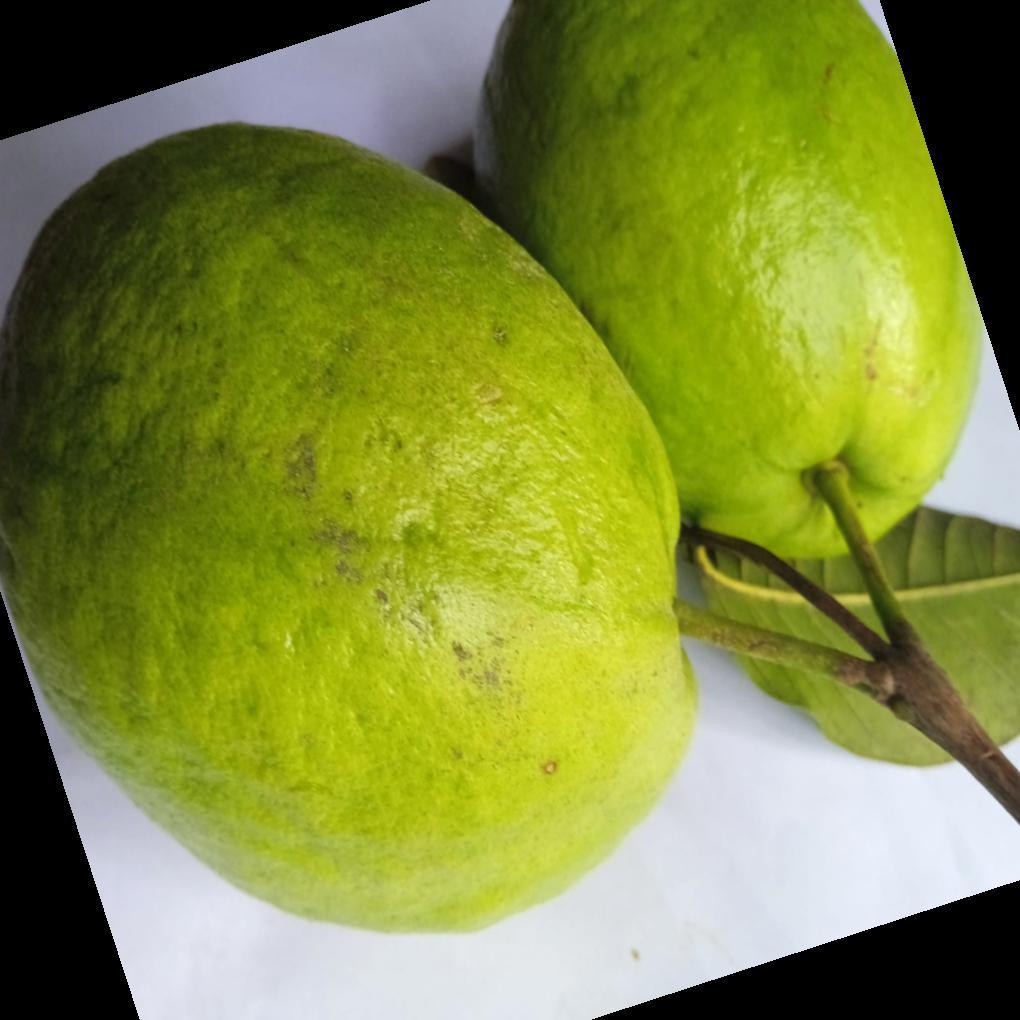FreshGuava: (0, 0, 1020, 940)
